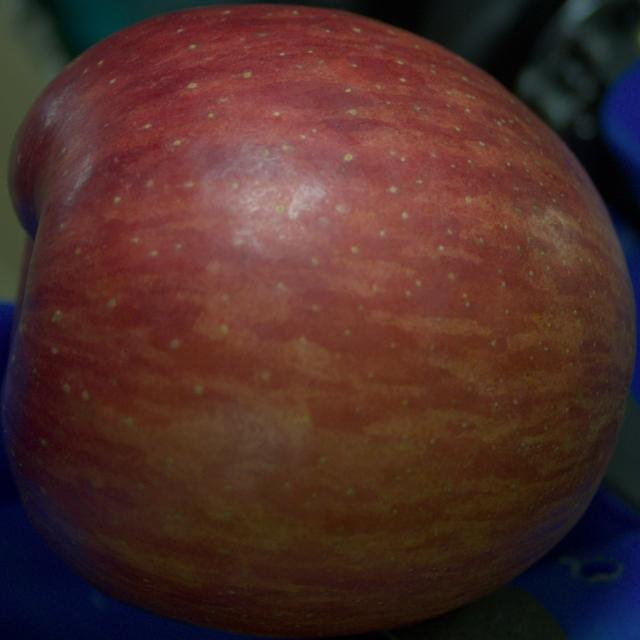apple: (0, 6, 634, 637)
